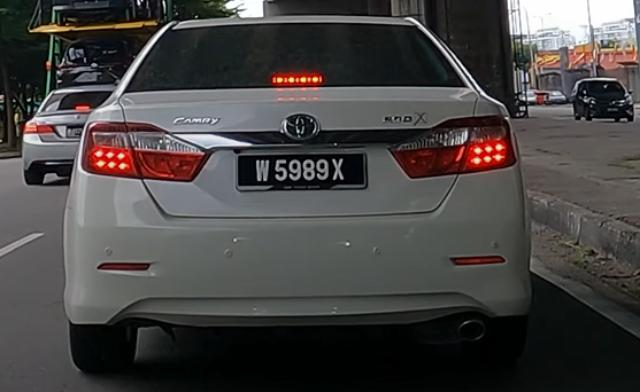License_Plate: (236, 151, 369, 193)
car: (62, 13, 534, 376)
